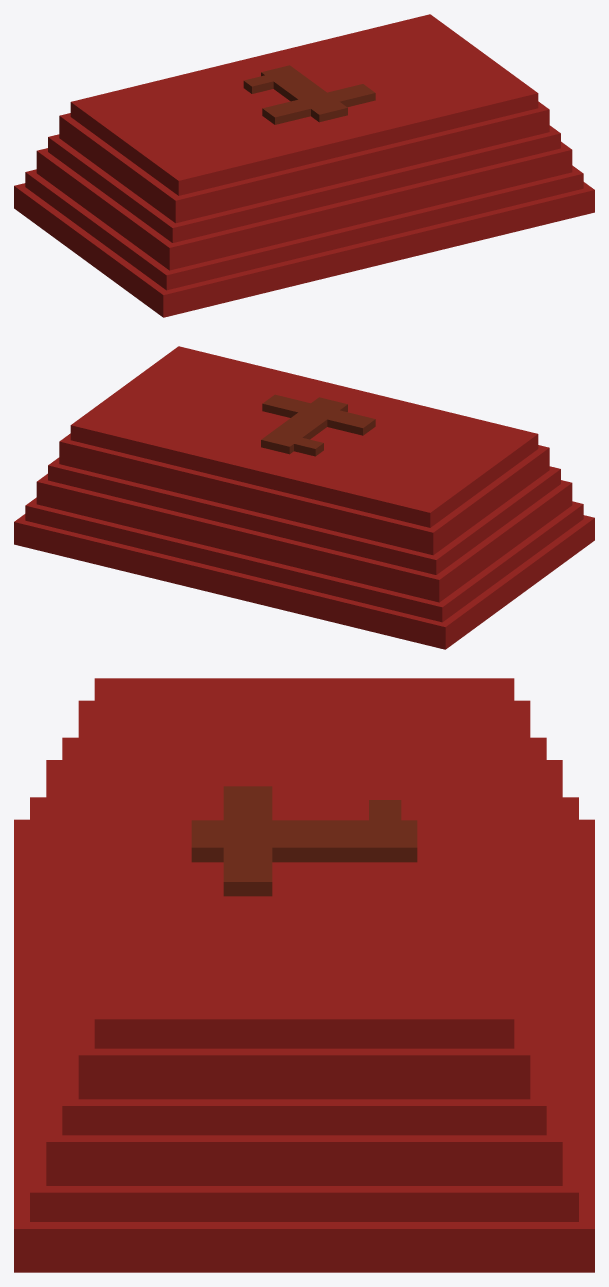
Rendered from crimsonite_ingot.glb.
3 views of the same model, one above another, from view 1: azimuth 30°, elevation 25°; view 2: azimuth 150°, elevation 25°; view 3: azimuth 270°, elevation 25° (orthographic). The views are drawn at different scales.
Visible parts, largest first — view 1: crimsonite_ingot:compound; view 2: crimsonite_ingot:compound; view 3: crimsonite_ingot:compound.
Part boxes in pixels (x1,y1,x2,y2): crimsonite_ingot:compound: [14, 14, 594, 317]; crimsonite_ingot:compound: [14, 346, 594, 649]; crimsonite_ingot:compound: [14, 678, 594, 1272].
Bounding box in the file's own units: 0.12 × 0.032 × 0.072.
